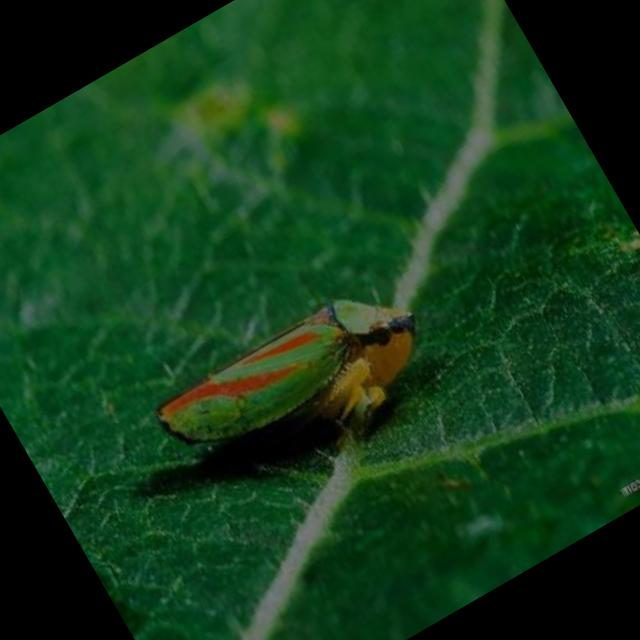green-leafhopper: (146, 258, 454, 508)
